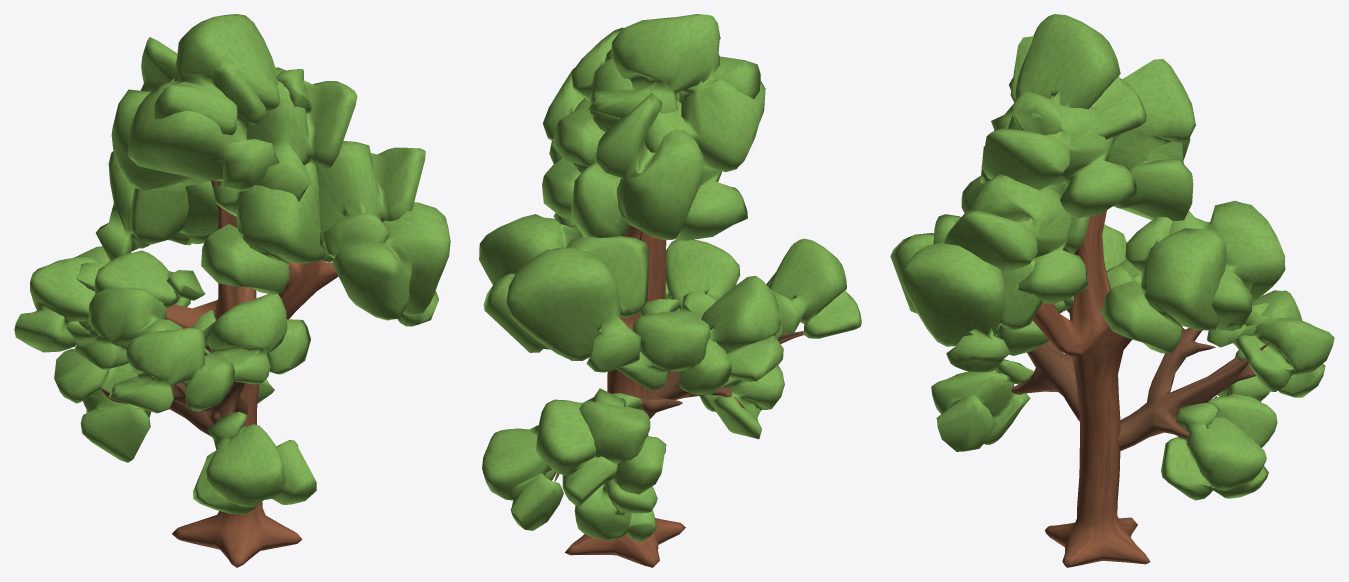
The model's file is Tree4.fbx.
3 renders of one model, left to right at view 1: azimuth 30°, elevation 25°; view 2: azimuth 150°, elevation 25°; view 3: azimuth 270°, elevation 25°, orthographic. The views are drawn at different scales.
Visible parts, largest first — view 1: tree4; view 2: tree4; view 3: tree4.
Boxes of the visible parts, left/top/right/bottom form: tree4: left=14, top=14, right=450, bottom=567; tree4: left=479, top=14, right=861, bottom=567; tree4: left=890, top=14, right=1334, bottom=567.
Size of the model in its own units: 6.34 by 10.16 by 8.02.
